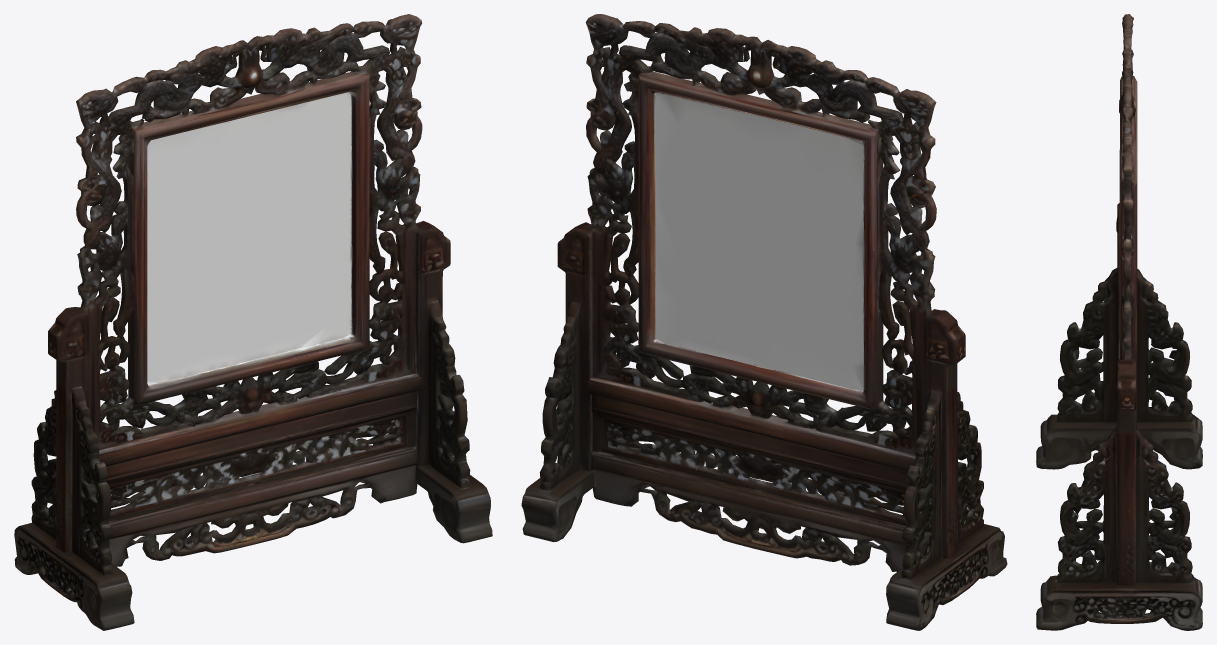
The model's file is f_jingzi.glb.
3 views of the same model, side by side, from view 1: azimuth 30°, elevation 25°; view 2: azimuth 150°, elevation 25°; view 3: azimuth 270°, elevation 25° (orthographic). The views are drawn at different scales.
Parts seen in each view (by area): view 1: tripo_node_e7b37f06-80ba-4fad-a190-72763f52b6c2; view 2: tripo_node_e7b37f06-80ba-4fad-a190-72763f52b6c2; view 3: tripo_node_e7b37f06-80ba-4fad-a190-72763f52b6c2.
Boxes of the visible parts, <box> form: tripo_node_e7b37f06-80ba-4fad-a190-72763f52b6c2: <box>14,14,492,630</box>; tripo_node_e7b37f06-80ba-4fad-a190-72763f52b6c2: <box>521,14,1007,630</box>; tripo_node_e7b37f06-80ba-4fad-a190-72763f52b6c2: <box>1036,14,1202,630</box>.
Size of the model in its own units: 0.8089 by 1 by 0.3208.
1 material, 1 textured.
